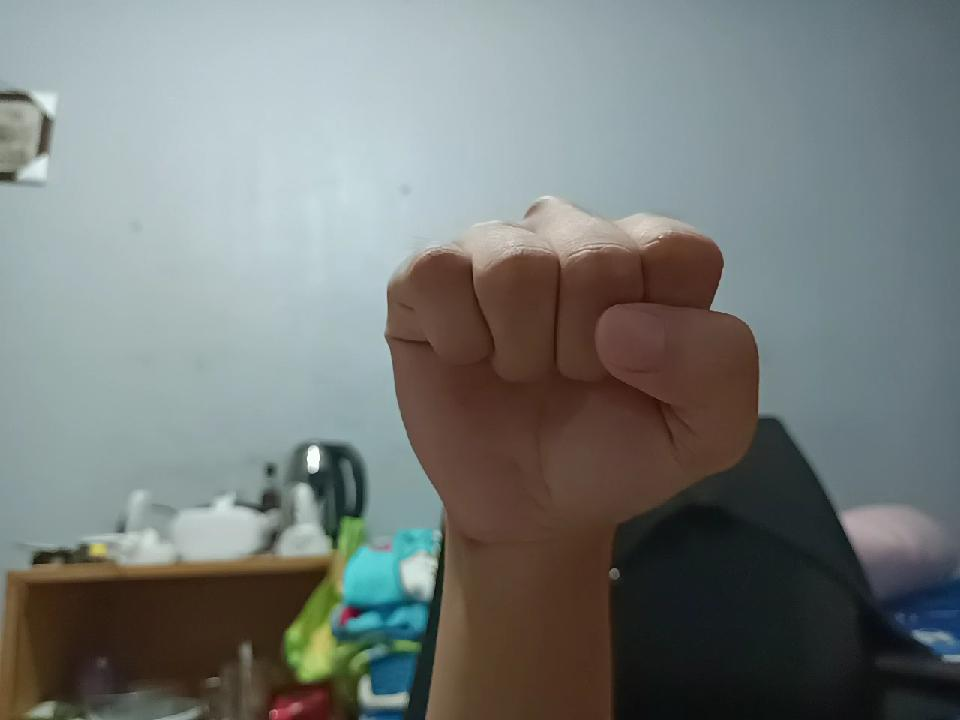rock: (401, 168, 720, 553)
